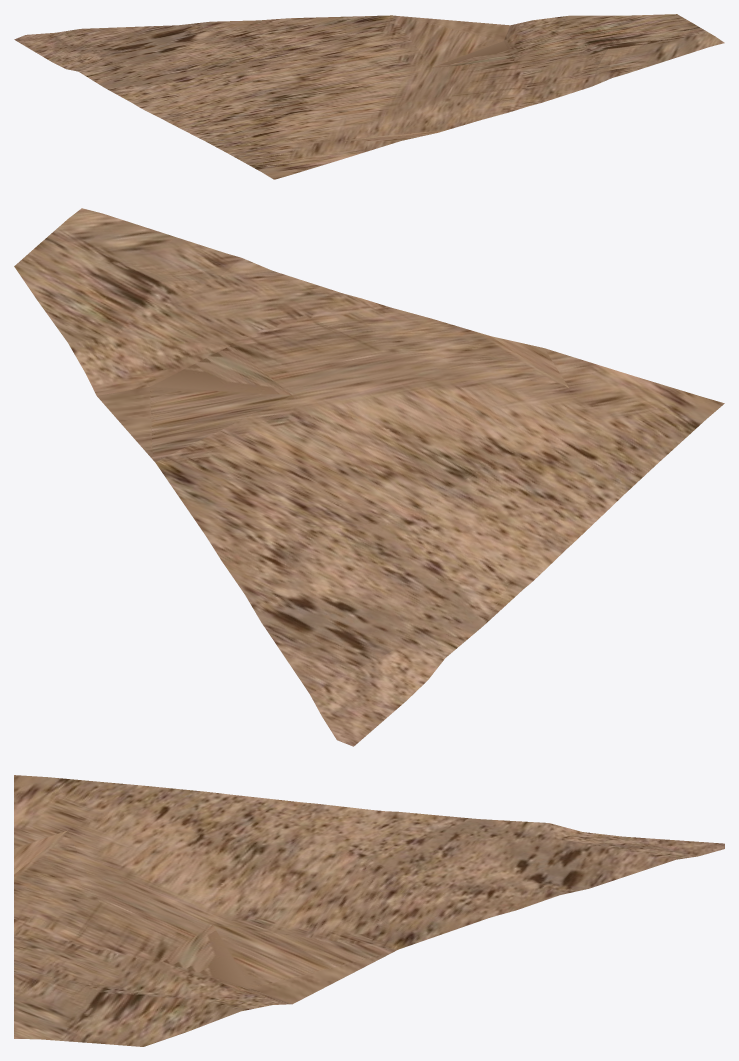
3 renders of one model, top to bottom at view 1: azimuth 30°, elevation 25°; view 2: azimuth 150°, elevation 25°; view 3: azimuth 270°, elevation 25°, orthographic. The views are drawn at different scales.
Size of the model in its own units: 4.18 by 0.6824 by 4.18.
Materials: 2 (2 with a texture image).
